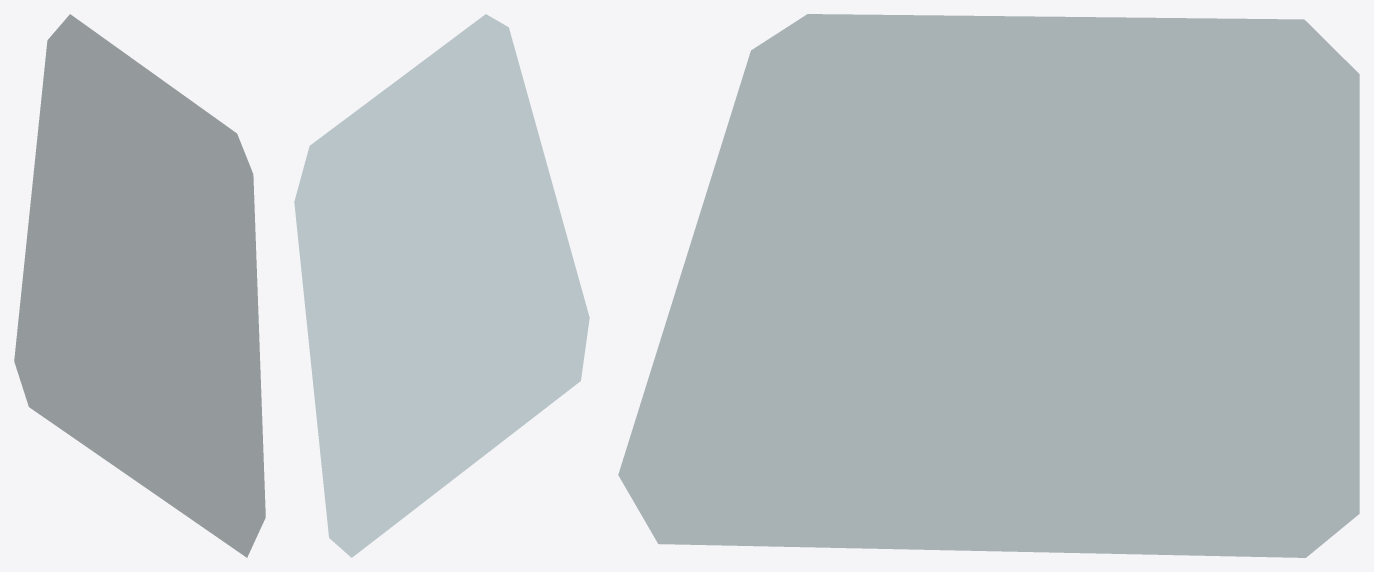
Rendered from Truck_2_Door_Window_FR_Tessellate.fbx.
3 views of the same model, side by side, from view 1: azimuth 30°, elevation 25°; view 2: azimuth 150°, elevation 25°; view 3: azimuth 270°, elevation 25° (orthographic). The views are drawn at different scales.
Parts seen in each view (by area): view 1: Truck_2_Door_Window_FR_Tessellate; view 2: Truck_2_Door_Window_FR_Tessellate; view 3: Truck_2_Door_Window_FR_Tessellate.
Part boxes in pixels (bbox=[...]): Truck_2_Door_Window_FR_Tessellate: bbox=[14, 14, 265, 557]; Truck_2_Door_Window_FR_Tessellate: bbox=[294, 14, 589, 557]; Truck_2_Door_Window_FR_Tessellate: bbox=[618, 14, 1359, 557].
Bounding box in the file's own units: 84.97 × 764 × 896.
